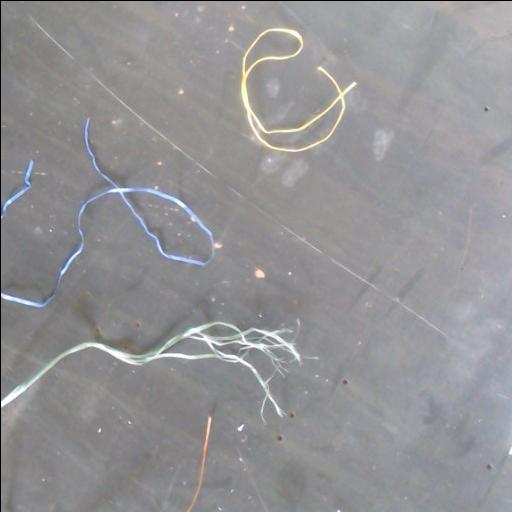conveyor belt: (1, 1, 512, 512)
thread: (1, 118, 215, 306), (1, 321, 300, 418), (241, 27, 355, 152)
